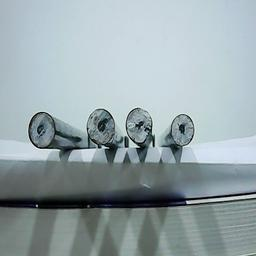pen: (27, 111, 55, 148), (86, 107, 114, 144), (125, 106, 153, 143), (169, 112, 195, 146)
